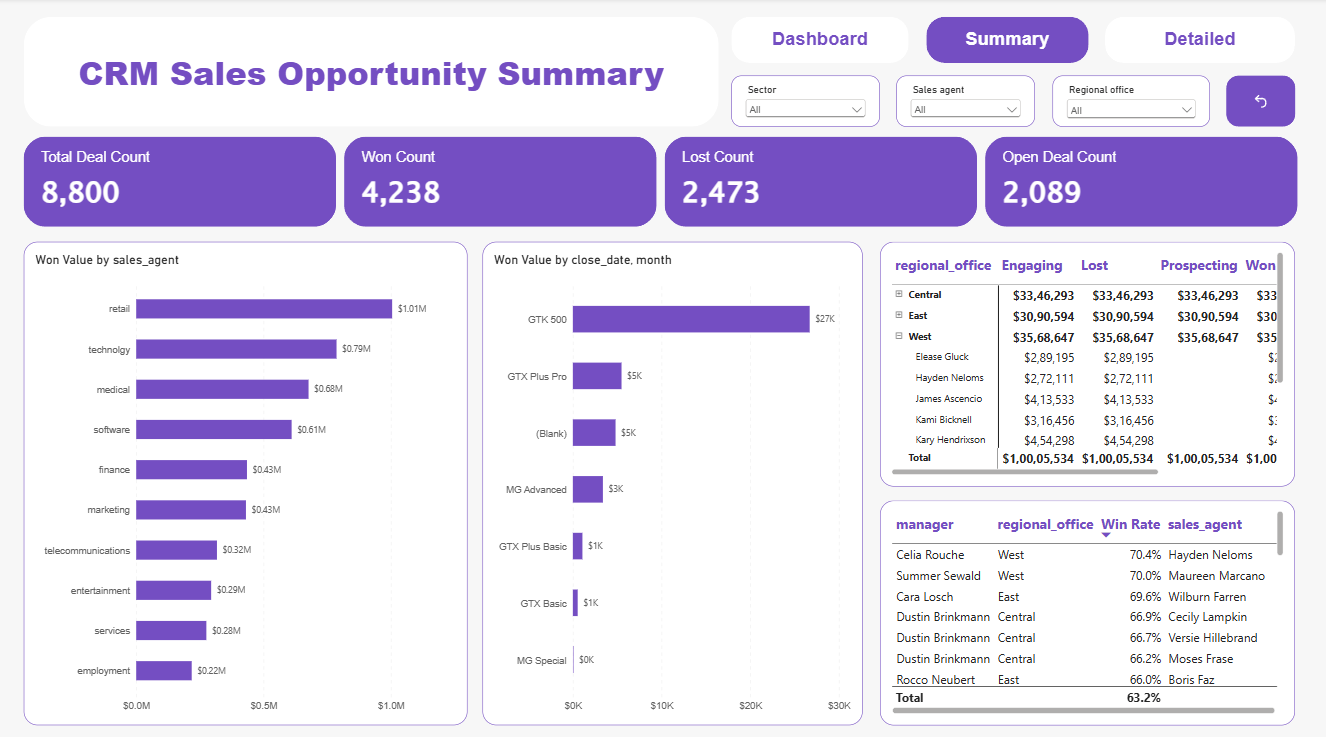

The page's visual inventory and layout, read from the dashboard file:
{"tool":"powerbi","page":{"name":"Summary","canvas":[1920,1080],"ordinal":1},"visuals":[{"type":"actionButton","box":[1058.7,27.1,257,67],"z":0},{"type":"slicer","fields":{"Values":["crm sales_teams.regional_office"]},"box":[1523.2,112.5,228,74],"z":0,"group":"g1"},{"type":"cardVisual","fields":{"Data":["crm sales_pipeline.Total Deal Count","crm sales_pipeline.Won Count","crm sales_pipeline.Lost Count","crm sales_pipeline.Open Deal Count"]},"box":[34.4,200.9,1845.9,130.3],"z":0},{"type":"pivotTable","fields":{"Columns":["crm sales_pipeline.deal_stage"],"Rows":["crm sales_teams.regional_office","crm sales_pipeline.sales_agent"],"Values":["crm sales_pipeline.Won Value"]},"box":[1274,352.9,600.8,354.7],"z":0},{"type":"group","id":"g1","title":"Group 1","box":[1058.8,112.4,816.5,74.2],"z":1},{"type":"barChart","title":"Won Value by sales_agent","fields":{"Category":["crm accounts.sector"],"Y":["crm sales_pipeline.Won Value"]},"box":[34.4,352.9,642.4,700.3],"z":1},{"type":"shape","box":[34.4,27.1,1006.2,159.3],"z":2},{"type":"actionButton","box":[1340.1,27.1,235.3,67],"z":1000},{"type":"slicer","fields":{"Values":["crm accounts.sector"]},"box":[1058.8,112.5,215.3,74],"z":1000,"group":"g1"},{"type":"barChart","title":"Won Value by close_date, month","fields":{"Category":["crm products.product"],"Y":["crm sales_pipeline.Average Won Deal Size"]},"box":[698.5,352.9,550.1,700.3],"z":1000},{"type":"actionButton","box":[1599.7,27.1,275.1,67],"z":2000},{"type":"slicer","fields":{"Values":["crm sales_pipeline.sales_agent"]},"box":[1298.2,112.4,200.9,74.2],"z":2000,"group":"g1"},{"type":"tableEx","fields":{"Values":["crm sales_teams.manager","crm sales_teams.regional_office","crm sales_pipeline.Win Rate","crm sales_teams.sales_agent"]},"box":[1274,727.5,600.8,325.7],"z":2000},{"type":"actionButton","box":[1775.3,112.5,100,74],"z":3000,"group":"g1"}]}

Visuals, with their boxes in screenshot pixels (x1, y1, x2, y2), scaled from the page's 1920x1080 canvas onto the 1326x737 screenshot:
actionButton: pyautogui.locateOnScreen(731, 18, 909, 64)
slicer - crm sales_teams.regional_office: pyautogui.locateOnScreen(1052, 77, 1209, 127)
cardVisual - crm sales_pipeline.Total Deal Count x crm sales_pipeline.Won Count: pyautogui.locateOnScreen(24, 137, 1299, 226)
pivotTable - crm sales_pipeline.deal_stage x crm sales_teams.regional_office: pyautogui.locateOnScreen(880, 241, 1295, 483)
"Group 1" group: pyautogui.locateOnScreen(731, 77, 1295, 127)
"Won Value by sales_agent" barChart: pyautogui.locateOnScreen(24, 241, 467, 719)
shape: pyautogui.locateOnScreen(24, 18, 719, 127)
actionButton: pyautogui.locateOnScreen(926, 18, 1088, 64)
slicer - crm accounts.sector: pyautogui.locateOnScreen(731, 77, 880, 127)
"Won Value by close_date, month" barChart: pyautogui.locateOnScreen(482, 241, 862, 719)
actionButton: pyautogui.locateOnScreen(1105, 18, 1295, 64)
slicer - crm sales_pipeline.sales_agent: pyautogui.locateOnScreen(897, 77, 1035, 127)
tableEx - crm sales_teams.manager x crm sales_teams.regional_office: pyautogui.locateOnScreen(880, 496, 1295, 719)
actionButton: pyautogui.locateOnScreen(1226, 77, 1295, 127)
